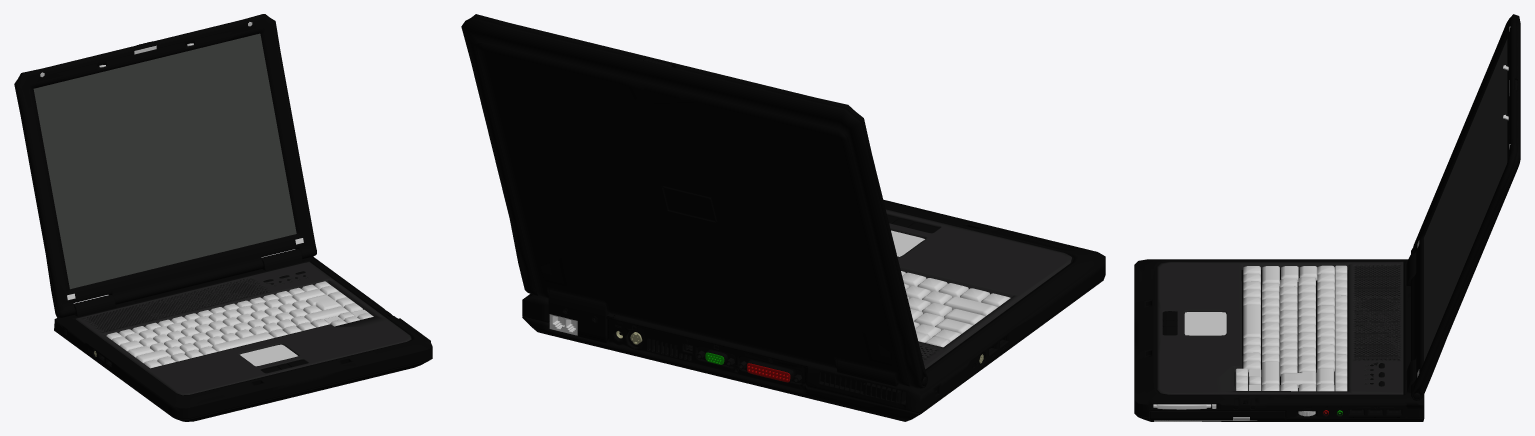
The model's file is Laptop.fbx.
3 views of the same model, side by side, from view 1: azimuth 30°, elevation 25°; view 2: azimuth 150°, elevation 25°; view 3: azimuth 270°, elevation 25° (orthographic). The views are drawn at different scales.
Parts seen in each view (by area): view 1: Laptop; view 2: Laptop; view 3: Laptop.
Part boxes in pixels (box(x1,y1,x2,y2)): Laptop: box(14, 14, 432, 421); Laptop: box(461, 14, 1105, 421); Laptop: box(1134, 14, 1520, 421).
Size of the model in its own units: 35.73 by 31.21 by 39.62.
